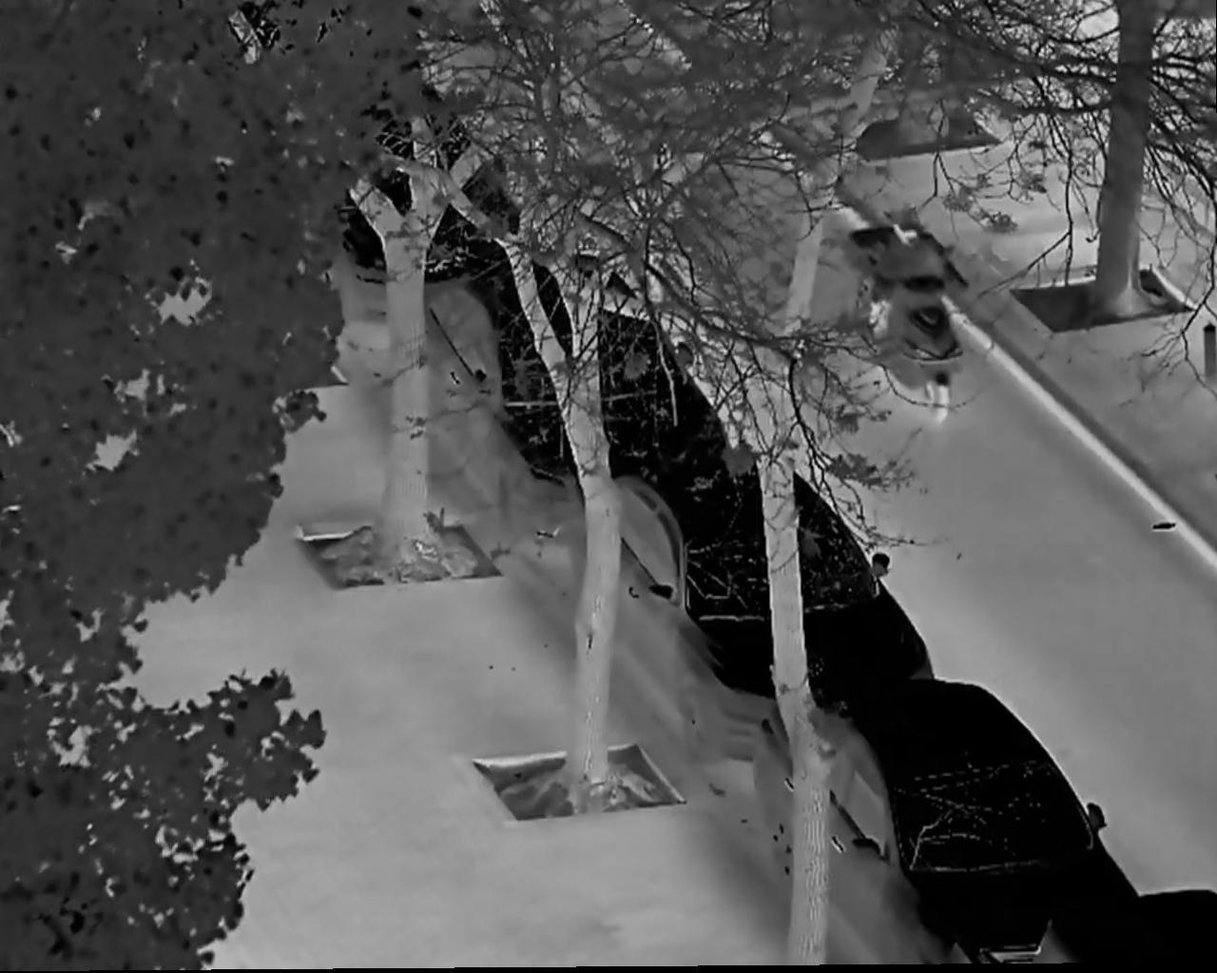person: (870, 210, 959, 352)
